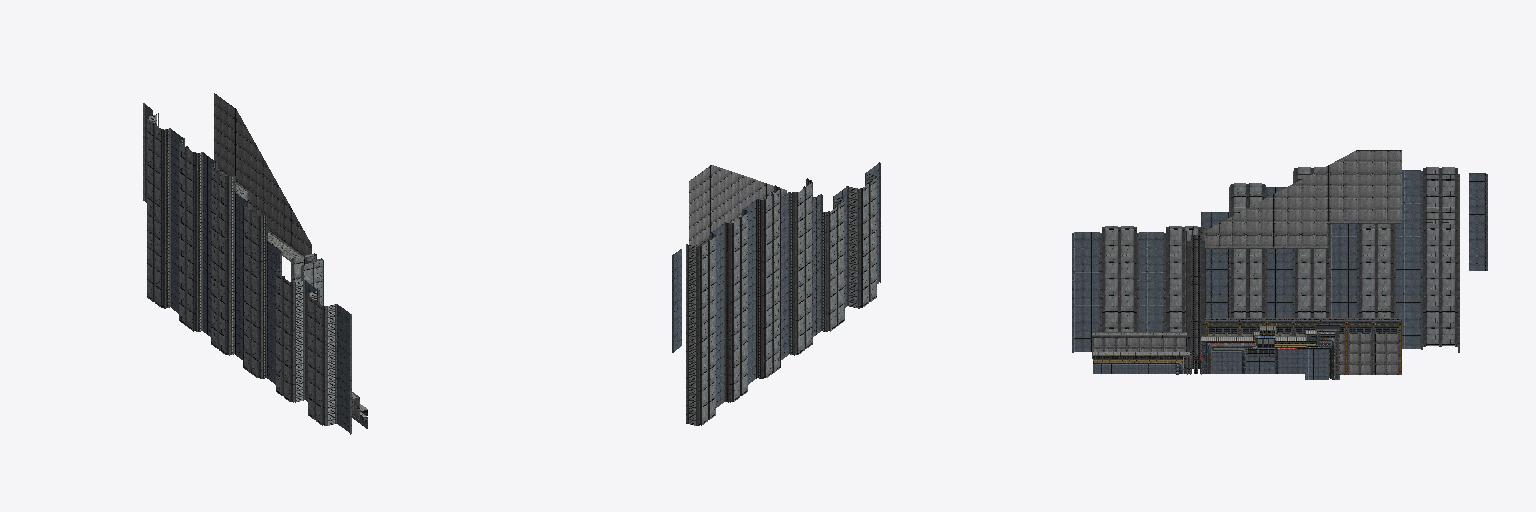
3 renders of one model, left to right at view 1: azimuth 30°, elevation 25°; view 2: azimuth 150°, elevation 25°; view 3: azimuth 270°, elevation 25°, orthographic.
Parts seen in each view (by area): view 1: polygon64, polygon60, polygon8, polygon57, polygon65, polygon61, polygon59, polygon63, polygon62, polygon36; view 2: polygon64, polygon60, polygon8, polygon65, polygon57, polygon63, polygon59, polygon66, polygon62, polygon61, polygon58; view 3: polygon64, polygon8, polygon57, polygon60, polygon65, polygon30, polygon53, polygon63, polygon59, polygon49, polygon36, polygon51 (+8 smaller).
Part boxes in pixels (left/top/right/bottom): polygon64: left=147, top=117, right=228, bottom=354; polygon60: left=243, top=205, right=324, bottom=425; polygon8: left=214, top=93, right=311, bottom=255; polygon57: left=235, top=193, right=350, bottom=432; polygon65: left=145, top=104, right=215, bottom=336; polygon61: left=295, top=281, right=335, bottom=425; polygon59: left=233, top=175, right=351, bottom=434; polygon63: left=143, top=103, right=230, bottom=355; polygon62: left=167, top=129, right=232, bottom=354; polygon36: left=291, top=253, right=323, bottom=305; polygon64: left=699, top=188, right=780, bottom=425; polygon60: left=795, top=176, right=876, bottom=354; polygon8: left=689, top=165, right=786, bottom=246; polygon65: left=673, top=200, right=756, bottom=407; polygon57: left=781, top=164, right=878, bottom=359; polygon63: left=672, top=187, right=779, bottom=425; polygon59: left=774, top=162, right=880, bottom=355; polygon66: left=688, top=245, right=696, bottom=425; polygon62: left=712, top=186, right=778, bottom=402; polygon61: left=835, top=174, right=874, bottom=307; polygon58: left=791, top=179, right=824, bottom=354; polygon64: left=1295, top=167, right=1457, bottom=346; polygon8: left=1205, top=150, right=1401, bottom=246; polygon57: left=1074, top=187, right=1292, bottom=351; polygon60: left=1102, top=183, right=1264, bottom=331; polygon65: left=1331, top=170, right=1485, bottom=348; polygon30: left=1212, top=338, right=1328, bottom=379; polygon53: left=1208, top=333, right=1397, bottom=373; polygon63: left=1294, top=168, right=1487, bottom=352; polygon59: left=1072, top=171, right=1294, bottom=352; polygon49: left=1093, top=338, right=1186, bottom=351; polygon36: left=1186, top=231, right=1205, bottom=351; polygon51: left=1205, top=318, right=1401, bottom=324.
Bounding box in the file's own units: 250 × 1279 × 2100.
Materials: 22 (22 with a texture image).